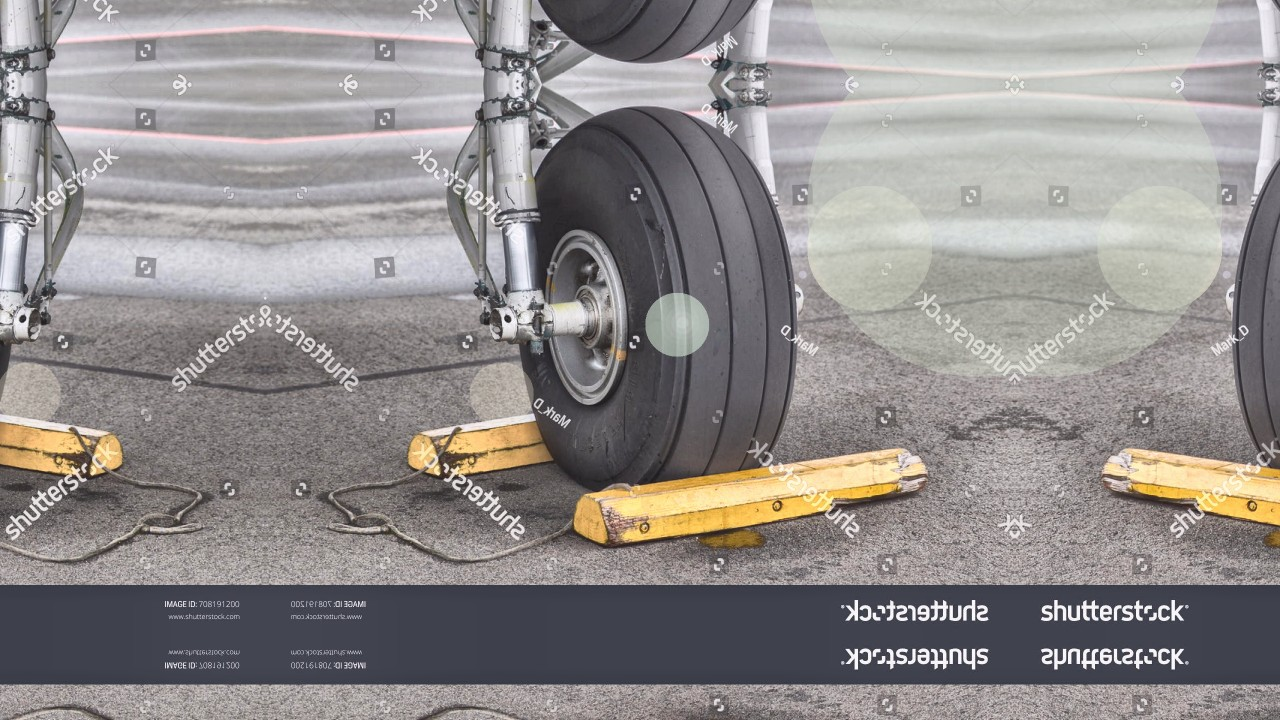chock: (567, 445, 930, 547), (1100, 445, 1280, 547), (406, 411, 657, 479), (0, 411, 124, 479)
wheel: (534, 102, 799, 494), (1232, 102, 1280, 494), (534, 0, 799, 68)
